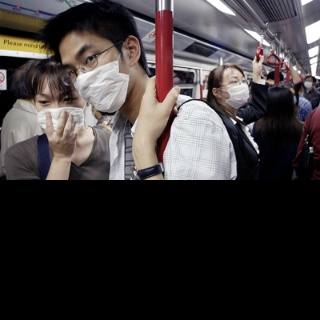with_mask: (61, 42, 130, 112), (34, 86, 85, 139), (222, 73, 251, 109), (304, 77, 313, 88)
